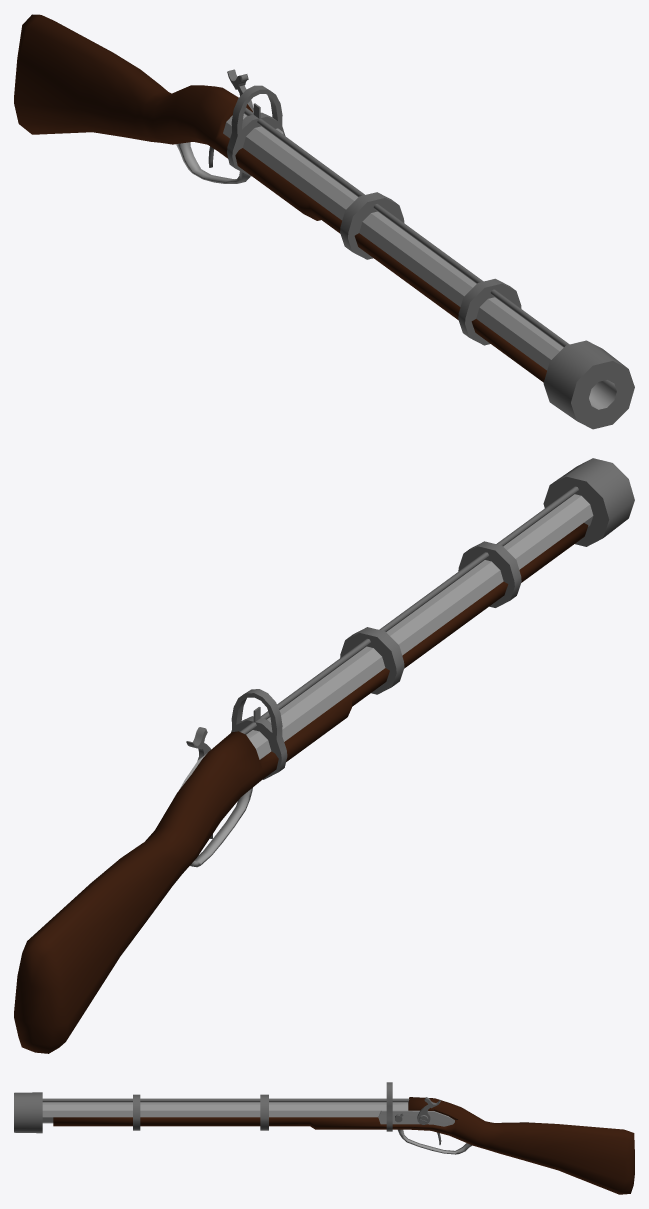
File: Mesh_Rifle.FBX
3 renders of one model, top to bottom at view 1: azimuth 30°, elevation 25°; view 2: azimuth 150°, elevation 25°; view 3: azimuth 270°, elevation 25°, orthographic. The views are drawn at different scales.
Parts seen in each view (by area): view 1: Weapon - Rifle001; view 2: Weapon - Rifle001; view 3: Weapon - Rifle001.
Part boxes in pixels (x1,y1,x2,y2): Weapon - Rifle001: (14, 14, 634, 429); Weapon - Rifle001: (14, 458, 634, 1053); Weapon - Rifle001: (14, 1082, 634, 1194).
Size of the model in its own units: 1.81 by 5.28 by 27.26.
